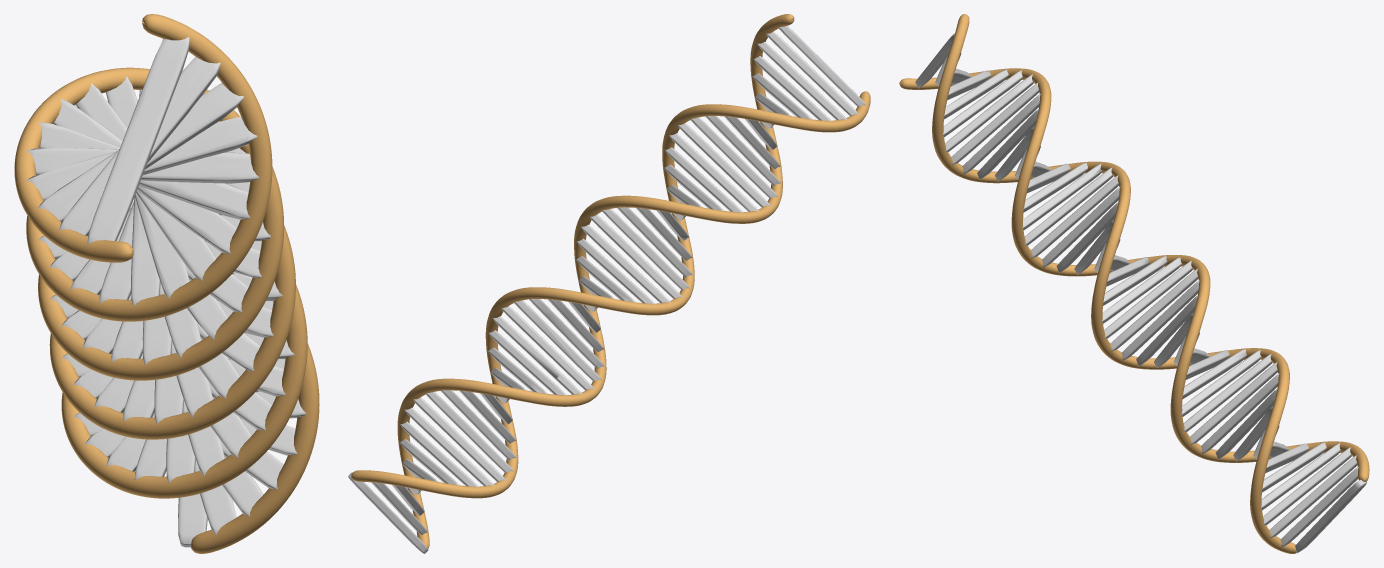
Rendered from dnaoptimized.glb.
3 views of the same model, side by side, from view 1: azimuth 30°, elevation 25°; view 2: azimuth 150°, elevation 25°; view 3: azimuth 270°, elevation 25° (orthographic). The views are drawn at different scales.
Visible parts, largest first — view 1: Object_6, Object_4; view 2: Object_6, Object_4; view 3: Object_6, Object_4.
Boxes of the visible parts, x1,y1,x2,y2 form: Object_6: (26,37,306,547); Object_4: (14,14,319,553); Object_6: (348,25,866,553); Object_4: (351,14,870,548); Object_6: (915,33,1367,553); Object_4: (899,14,1369,553).
Size of the model in its own units: 2.75 by 3.99 by 3.81.
